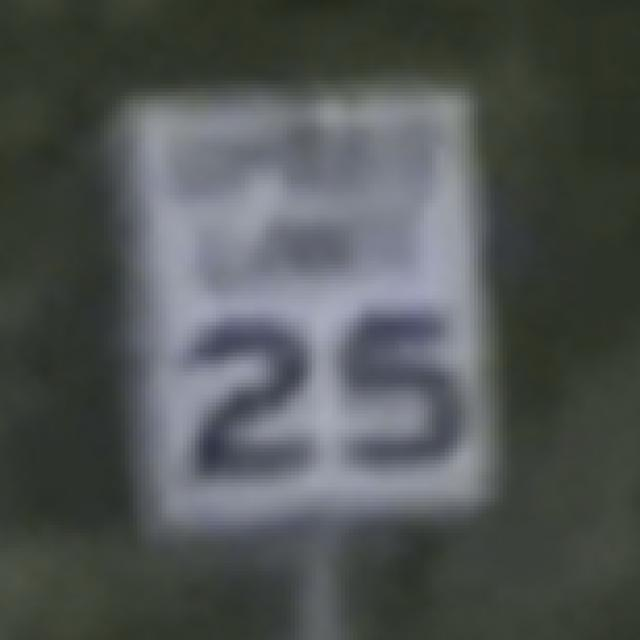speedLimit25: (118, 92, 499, 506)
